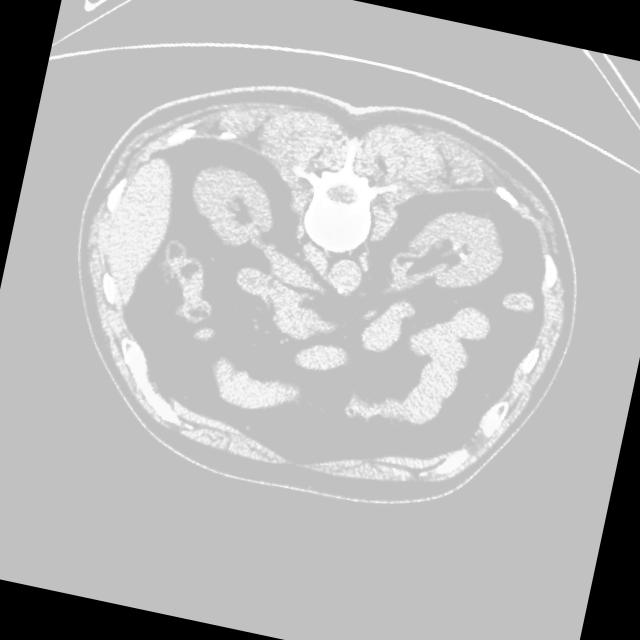STONE: (129, 174, 534, 398)
